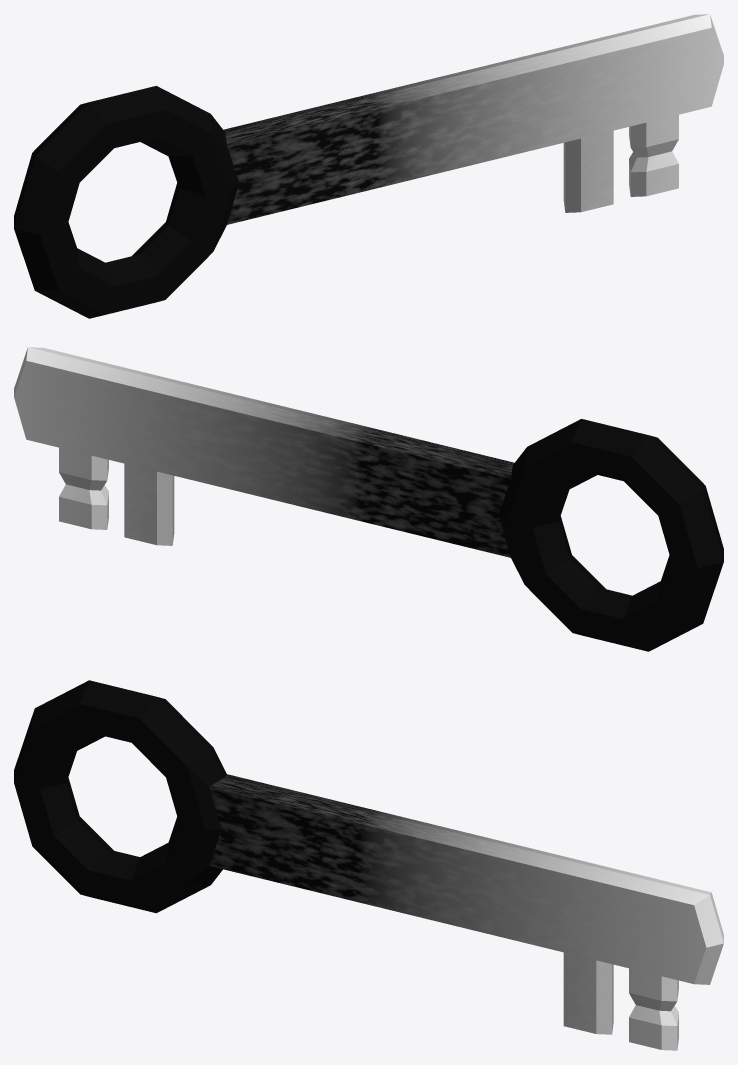
Rendered from Key.fbx.
3 views of the same model, one above another, from view 1: azimuth 30°, elevation 25°; view 2: azimuth 150°, elevation 25°; view 3: azimuth 330°, elevation 25° (orthographic).
Visible parts, largest first — view 1: Torus.001; view 2: Torus.001; view 3: Torus.001.
Part boxes in pixels (<box>): Torus.001: <box>14,14,723,318</box>; Torus.001: <box>14,347,723,651</box>; Torus.001: <box>14,680,723,1050</box>.
Size of the model in its own units: 808 by 51.67 by 247.
2 materials, 1 textured.
